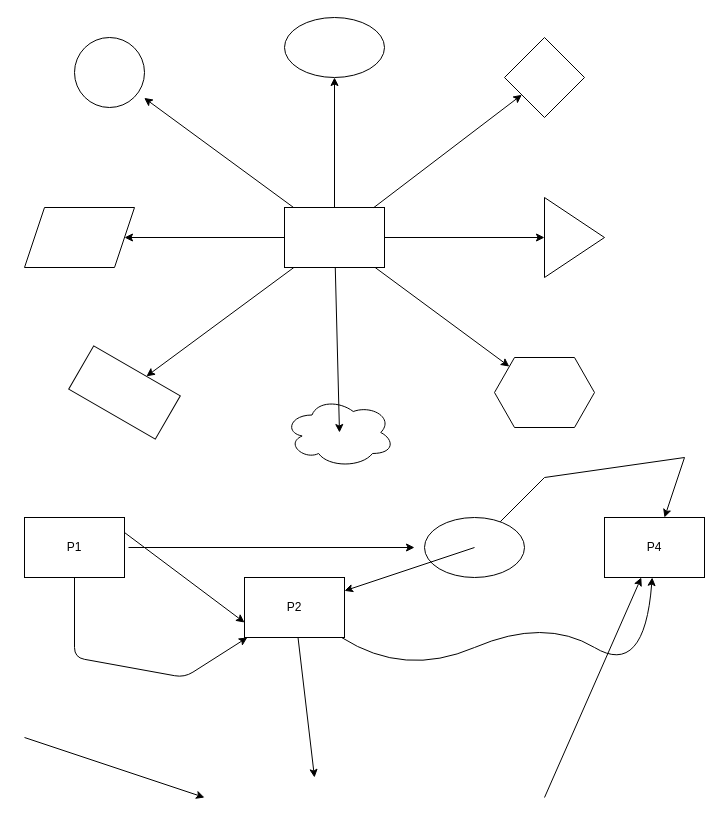
Some shapes in this 722 by 823 pixel diagram are drawn without their labels. Here are the shapes that lost their labels. From the top down, the centre of each, then its label:
At [334,237]: "Hub".
At [474,547]: "P3".
